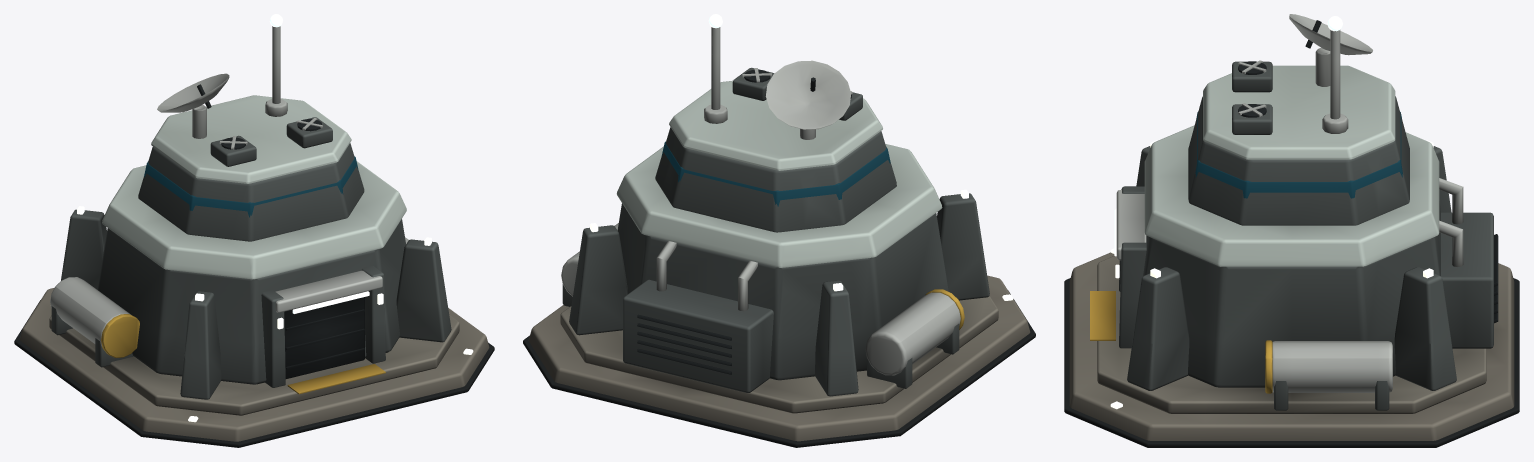
3 views of the same model, side by side, from view 1: azimuth 30°, elevation 25°; view 2: azimuth 150°, elevation 25°; view 3: azimuth 270°, elevation 25° (orthographic). The views are drawn at different scales.
Parts seen in each view (by area): view 1: Hall, Team_panels, Foundation, Steel.008, Gear.006, Trim, Hazard, Windows, Dish, Lights.006; view 2: Hall, Foundation, Team_panels, Steel.008, Dish, Trim, Gear.006, Windows; view 3: Hall, Team_panels, Foundation, Steel.008, Trim, Windows, Hazard, Dish, Gear.006.
Part boxes in pixels (x1=…): Hall: x1=51, y1=117, x2=451, y2=399; Team_panels: x1=102, y1=95, x2=406, y2=279; Foundation: x1=19, y1=288, x2=489, y2=441; Steel.008: x1=50, y1=26, x2=408, y2=346; Gear.006: x1=197, y1=84, x2=364, y2=378; Trim: x1=14, y1=300, x2=494, y2=447; Hazard: x1=101, y1=314, x2=385, y2=394; Windows: x1=144, y1=156, x2=358, y2=217; Dish: x1=157, y1=73, x2=229, y2=112; Lights.006: x1=269, y1=14, x2=369, y2=313; Hall: x1=562, y1=67, x2=989, y2=396; Foundation: x1=528, y1=275, x2=1030, y2=441; Team_panels: x1=616, y1=80, x2=942, y2=267; Steel.008: x1=561, y1=27, x2=960, y2=375; Dish: x1=765, y1=60, x2=851, y2=129; Trim: x1=523, y1=290, x2=1035, y2=447; Gear.006: x1=637, y1=69, x2=851, y2=374; Windows: x1=661, y1=141, x2=890, y2=206; Hall: x1=1119, y1=61, x2=1493, y2=410; Team_panels: x1=1144, y1=65, x2=1439, y2=266; Foundation: x1=1069, y1=252, x2=1514, y2=440; Steel.008: x1=1116, y1=30, x2=1463, y2=392; Trim: x1=1064, y1=278, x2=1519, y2=447; Windows: x1=1195, y1=112, x2=1402, y2=198; Hazard: x1=1090, y1=291, x2=1272, y2=393; Dish: x1=1289, y1=14, x2=1372, y2=55; Gear.006: x1=1238, y1=20, x2=1498, y2=323.
Bounding box in the file's own units: 6.52 × 5.44 × 6.32.
